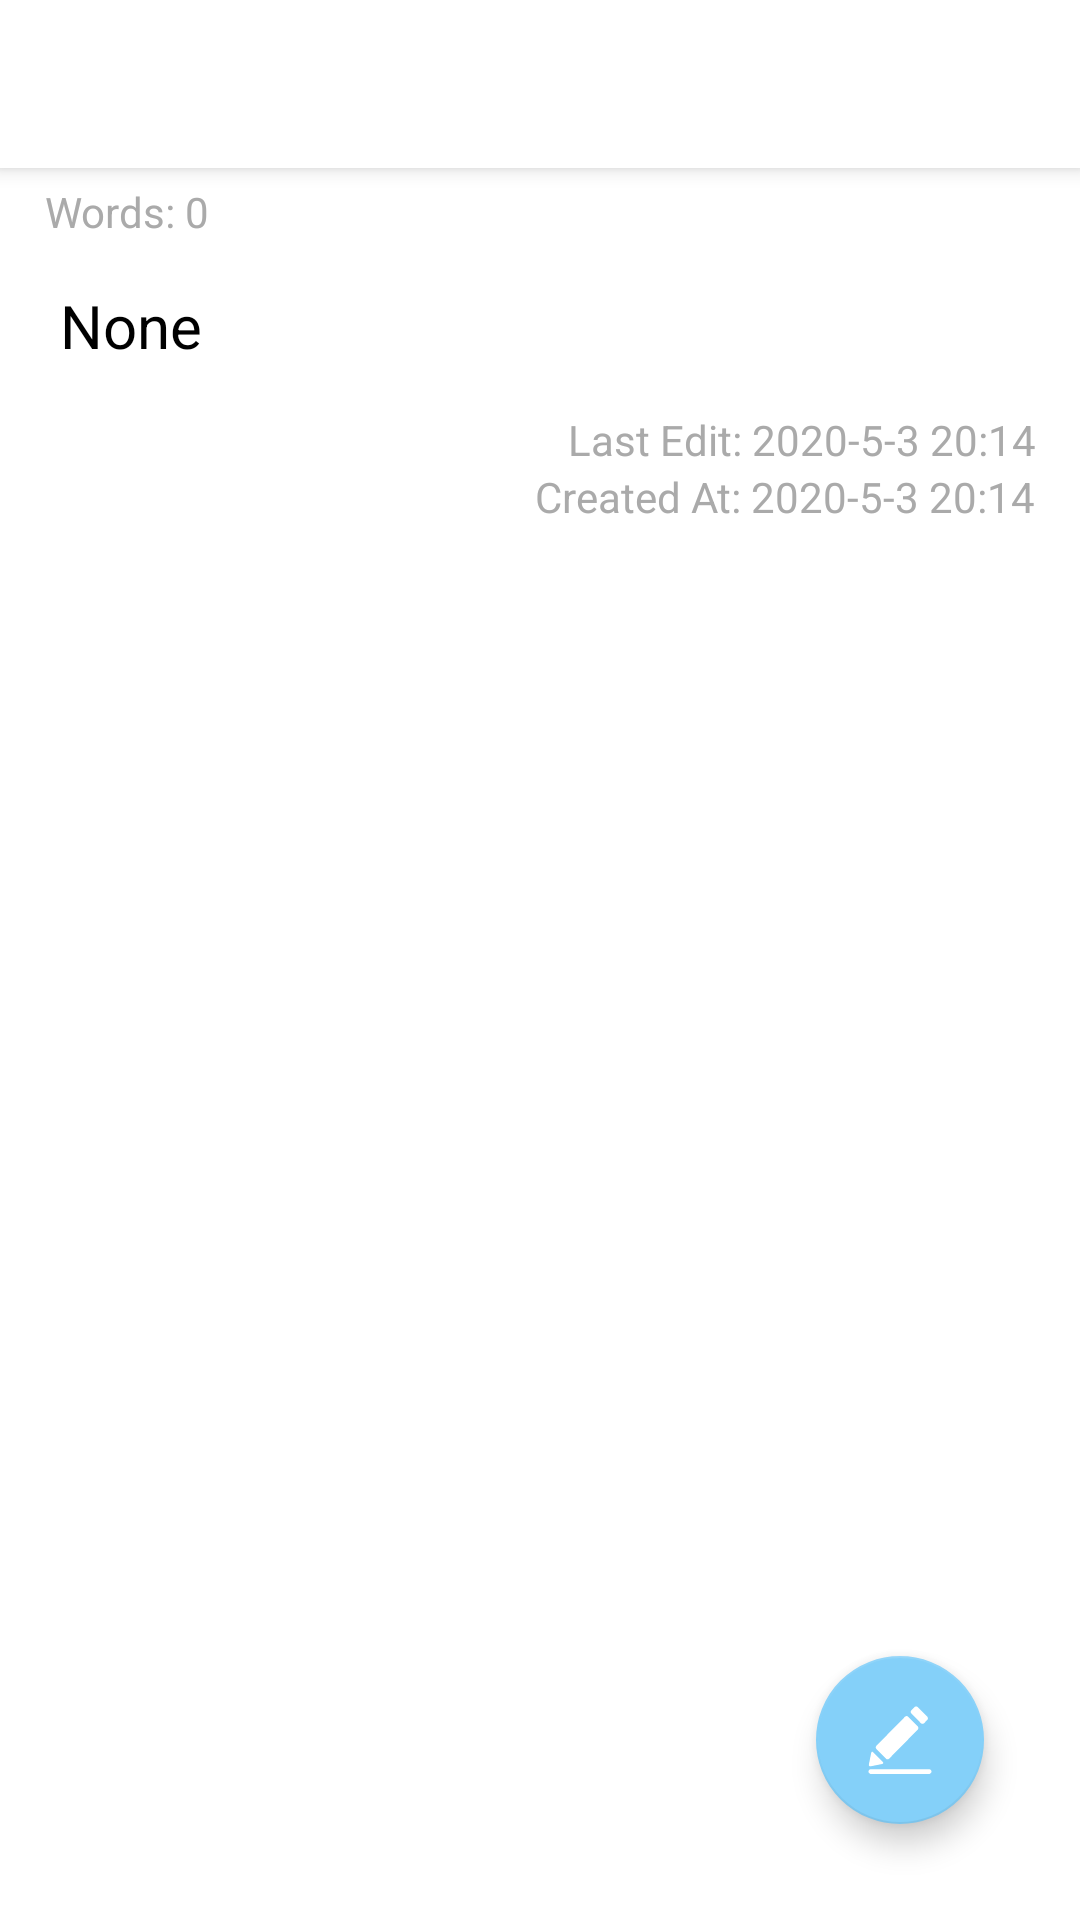

Named icons in this screenshot (1080 x 1920) and their bounding boxes, (x1, y1, x2, y2):
edit: (816, 1656, 984, 1824)
